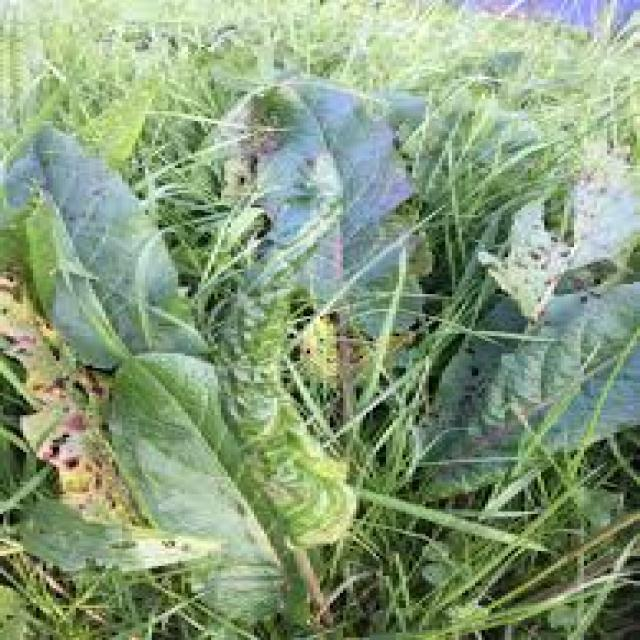organic waste: (0, 109, 640, 605)
